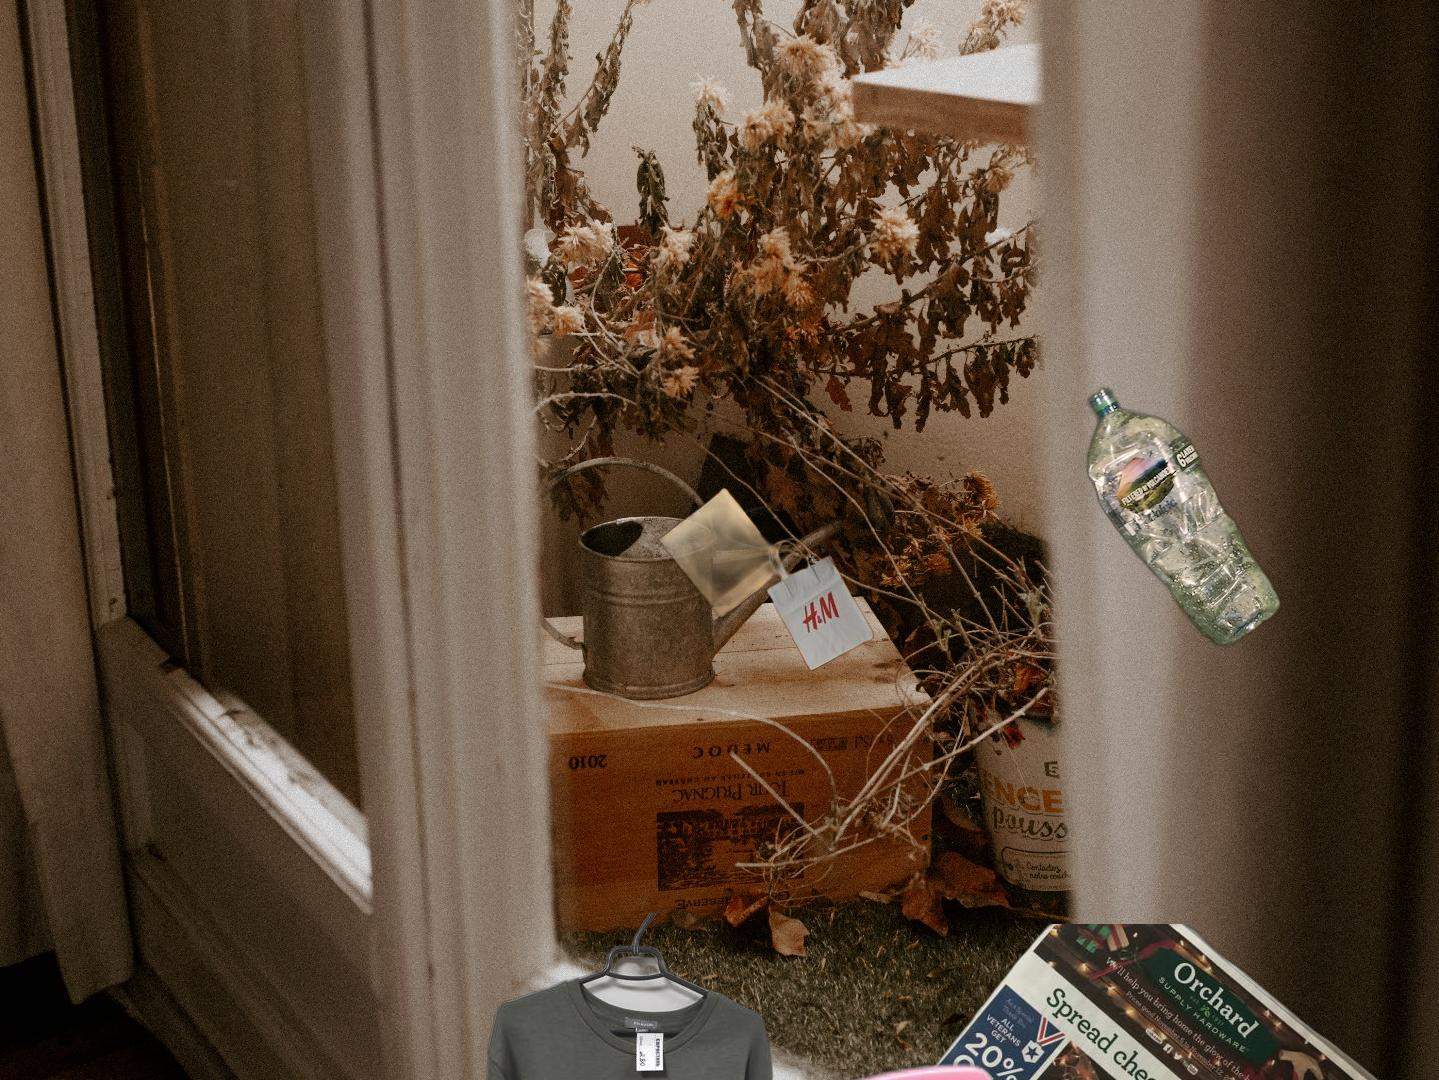clothes: (477, 913, 774, 1080)
paper: (899, 923, 1393, 1080)
paper-bag: (657, 425, 877, 674)
penholder: (329, 1055, 1277, 1080)
plastic-bottles: (1081, 382, 1286, 651)
